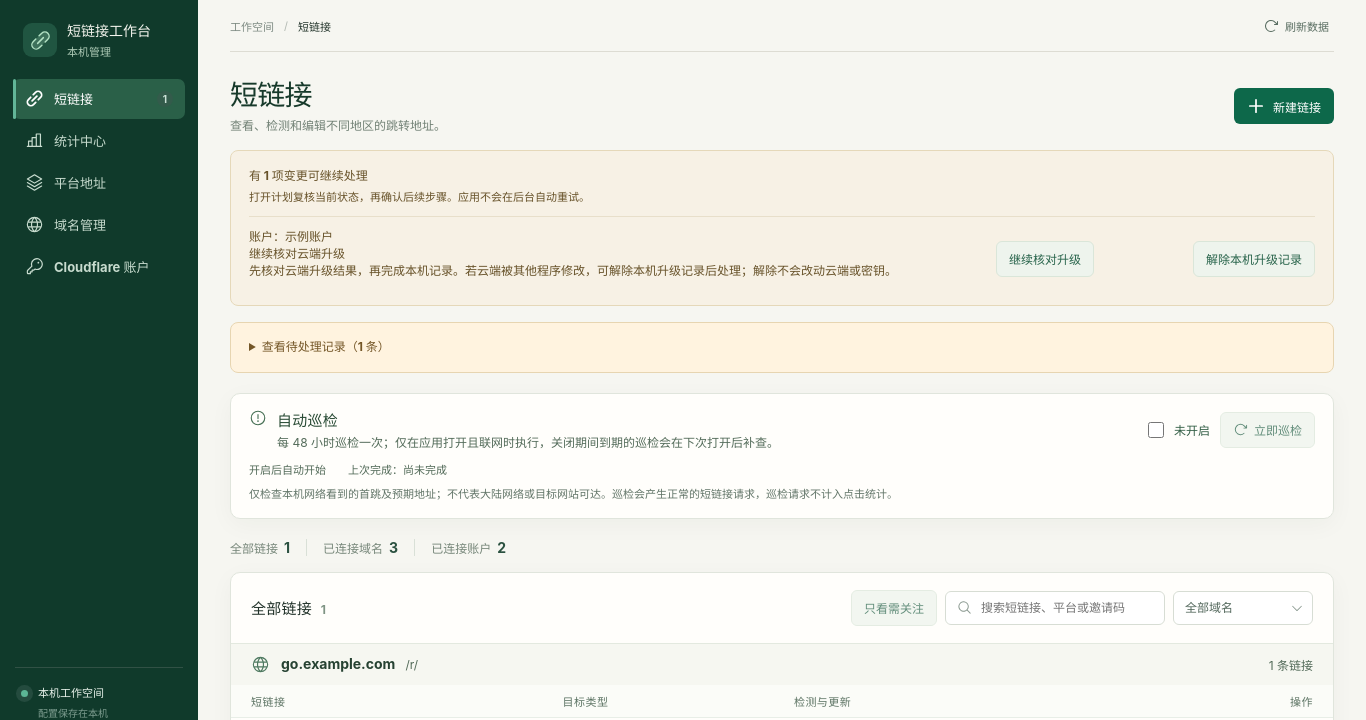
Test case: confirmed 继续核对升级 reports its actual scope
Click the button "继续核对升级".
click(1045, 259)  # box x1=996 y1=241 x2=1094 y2=277
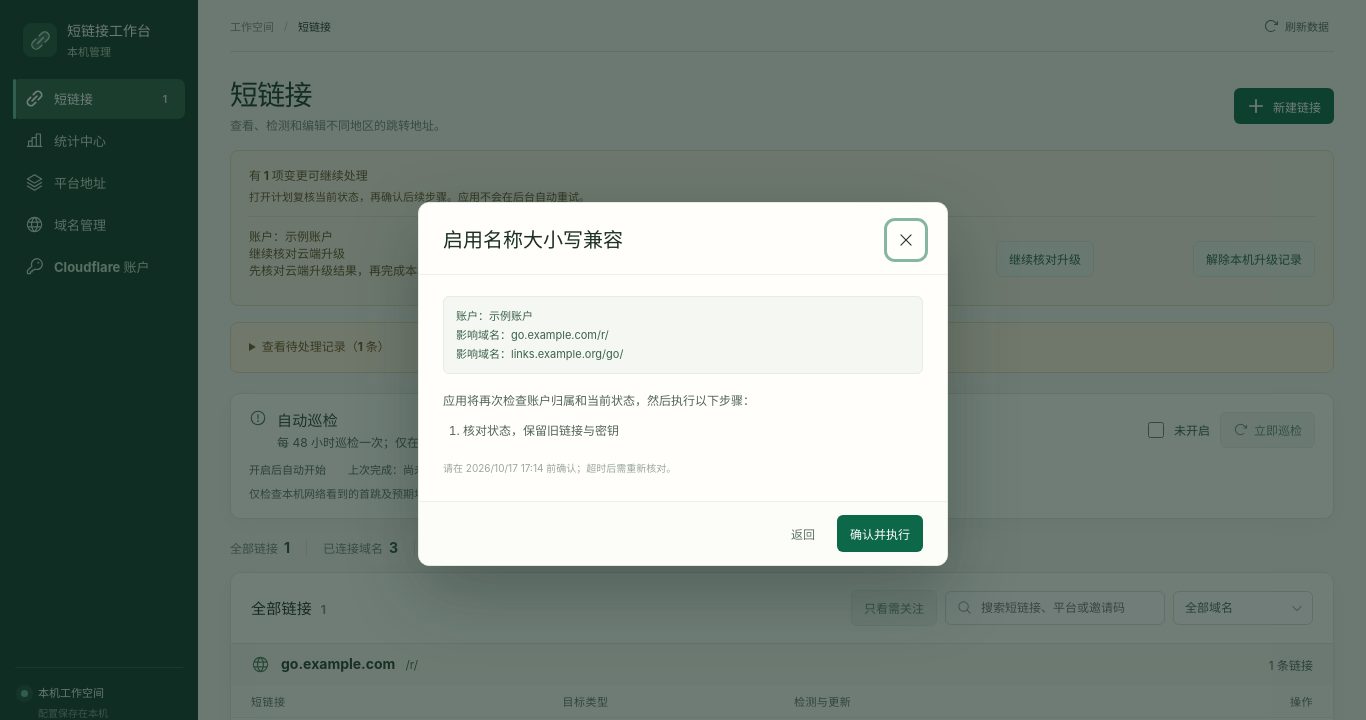
Click the button "确认并执行".
click(880, 533)  # box x1=837 y1=515 x2=923 y2=552
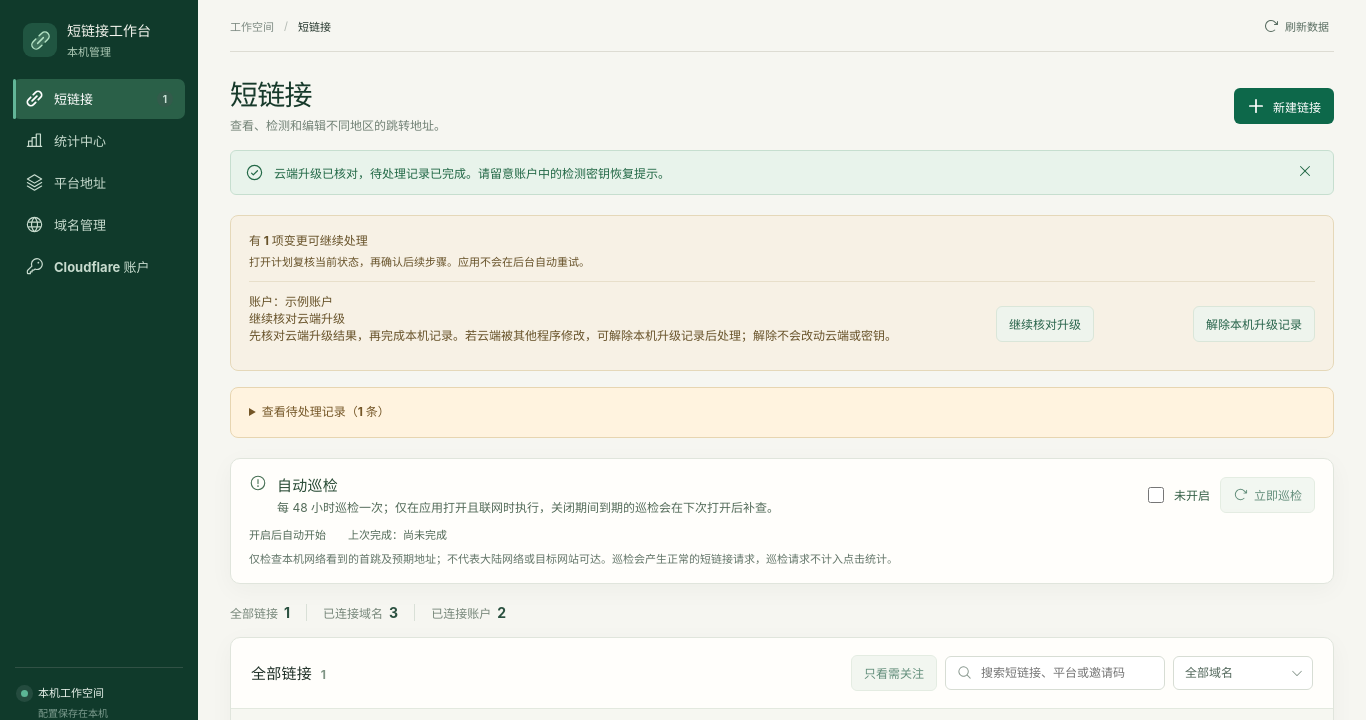
Expected: the message shows "云端升级已核对，待处理记录已完成", x1=274 y1=166 x2=670 y2=181
